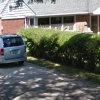Car: (2, 30, 29, 72)
